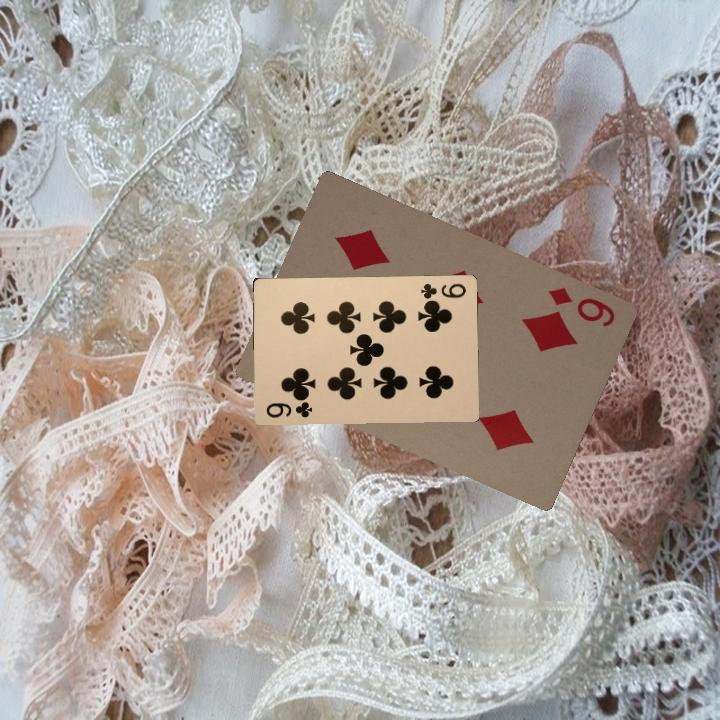6d: (544, 282, 618, 330)
9c: (417, 279, 468, 304), (262, 398, 314, 420)
